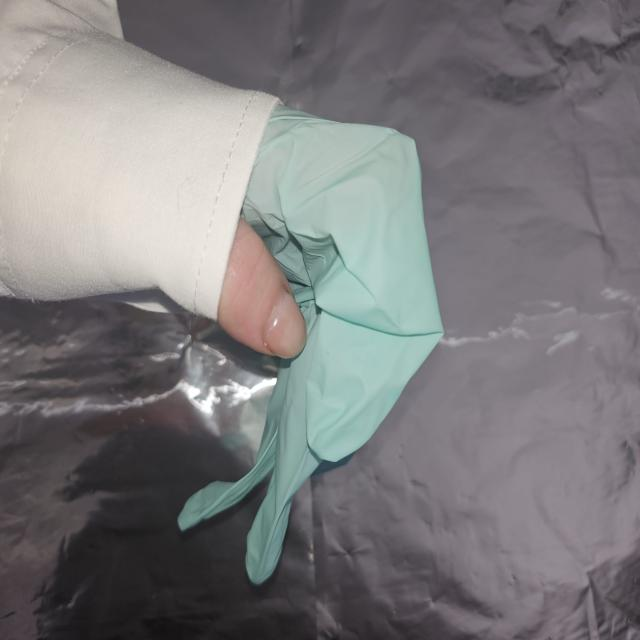glove_partial: (179, 92, 445, 588)
